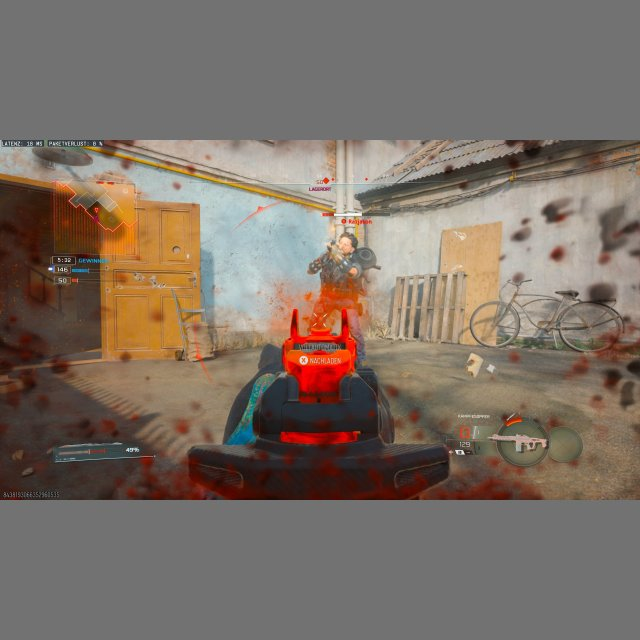head: (337, 233, 356, 256)
player: (308, 233, 378, 367)
